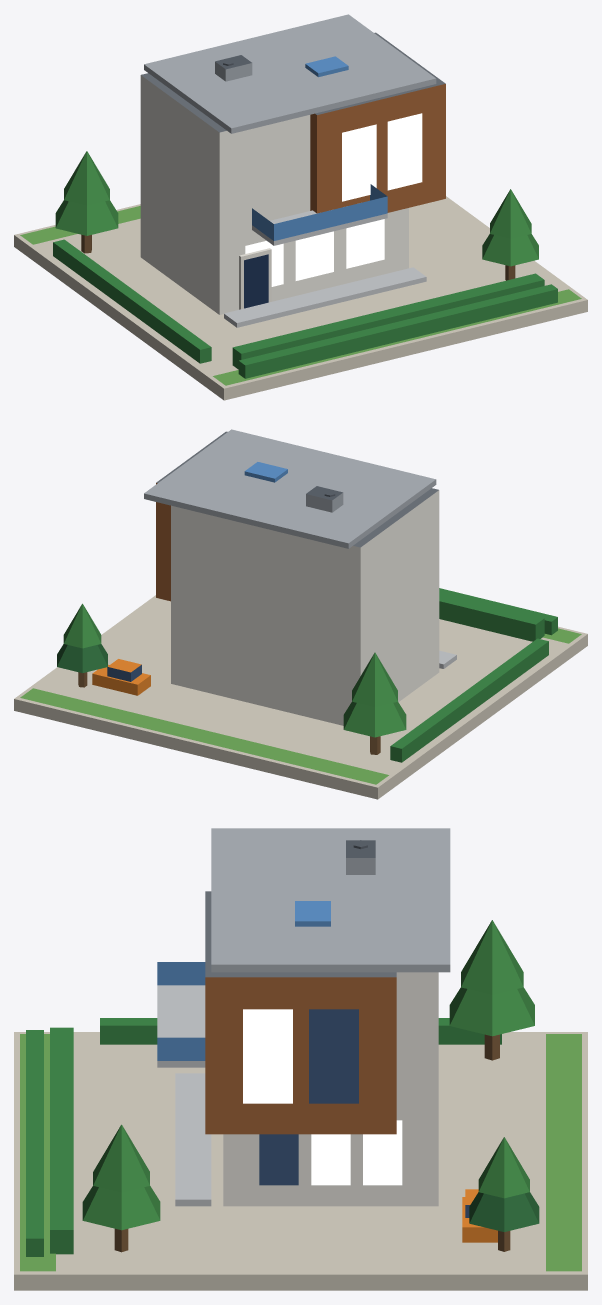
The picture shows the model from 3 angles, top to bottom: view 1: azimuth 30°, elevation 25°; view 2: azimuth 150°, elevation 25°; view 3: azimuth 270°, elevation 25°; orthographic projection. The views are drawn at different scales.
Parts seen in each view (by area): view 1: b03; view 2: b03; view 3: b03.
Boxes of the visible parts, box(x1,y1,x2,y2) form: b03: box(14, 14, 587, 400); b03: box(14, 429, 587, 799); b03: box(14, 828, 587, 1290).
Size of the model in its own units: 0.96 by 0.539 by 0.96.
